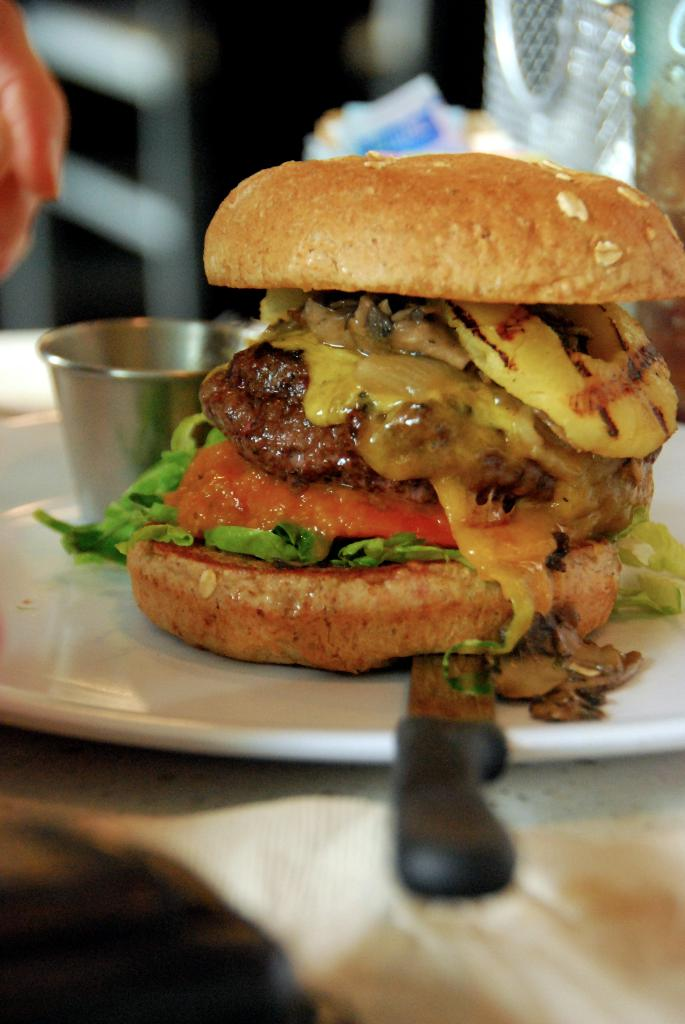Hamburger: (128, 149, 684, 668)
